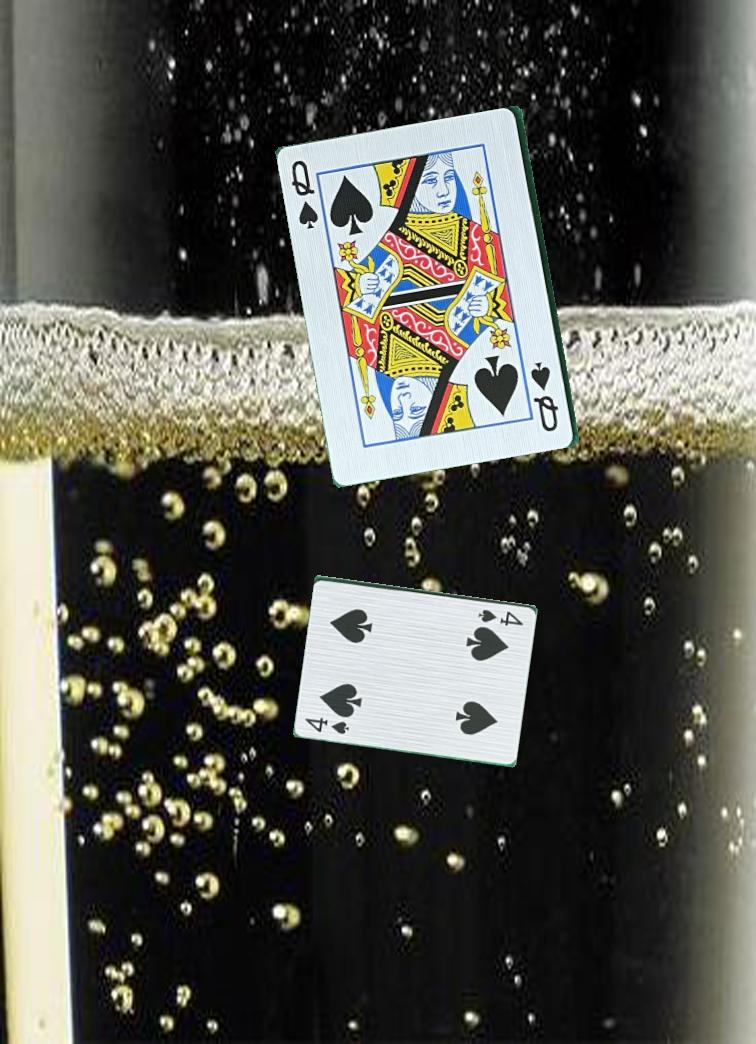4s: (302, 714, 357, 737), (475, 605, 526, 628)
qs: (288, 156, 322, 233), (529, 359, 562, 436)
